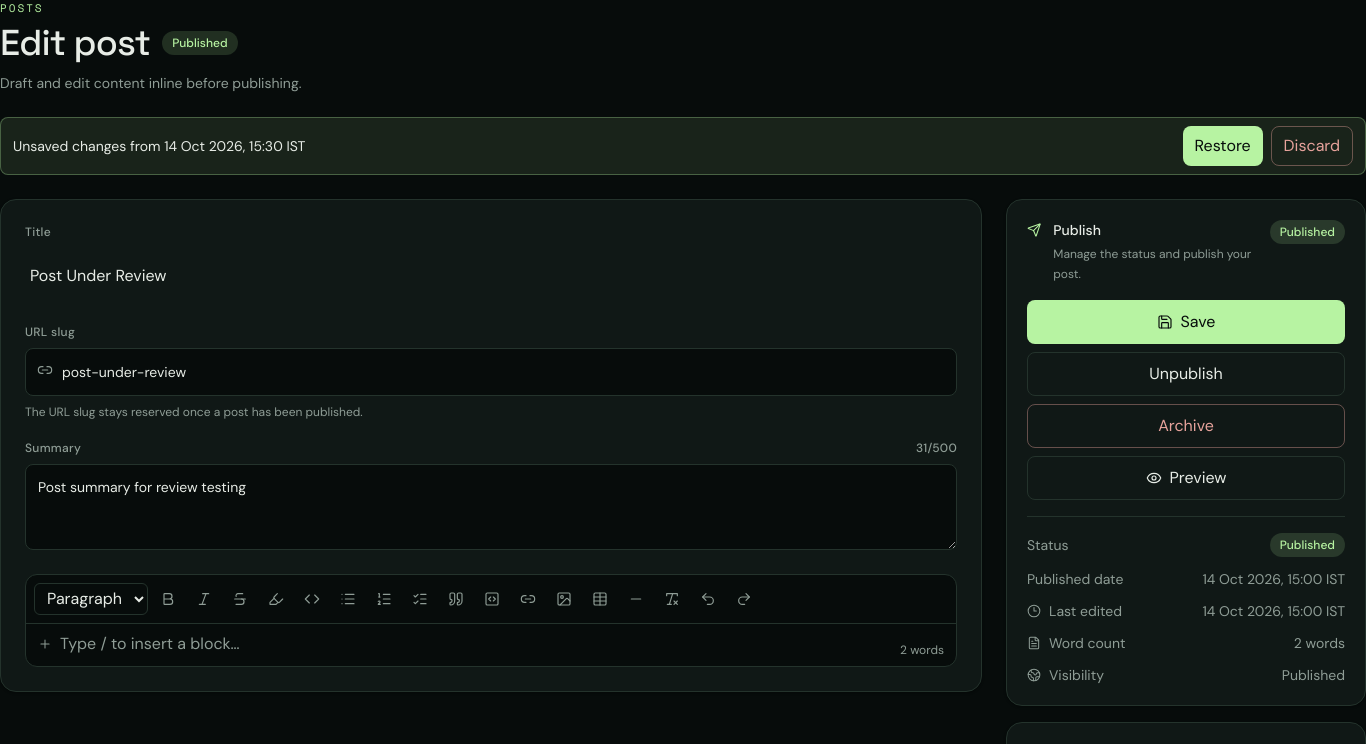
PostEditor component rendering with XSS payloads › sanitizes restored-from-local-storage HTML shown in preview through safeHtml
Click the button "Restore" at (1223, 146), box [1183, 126, 1263, 166]
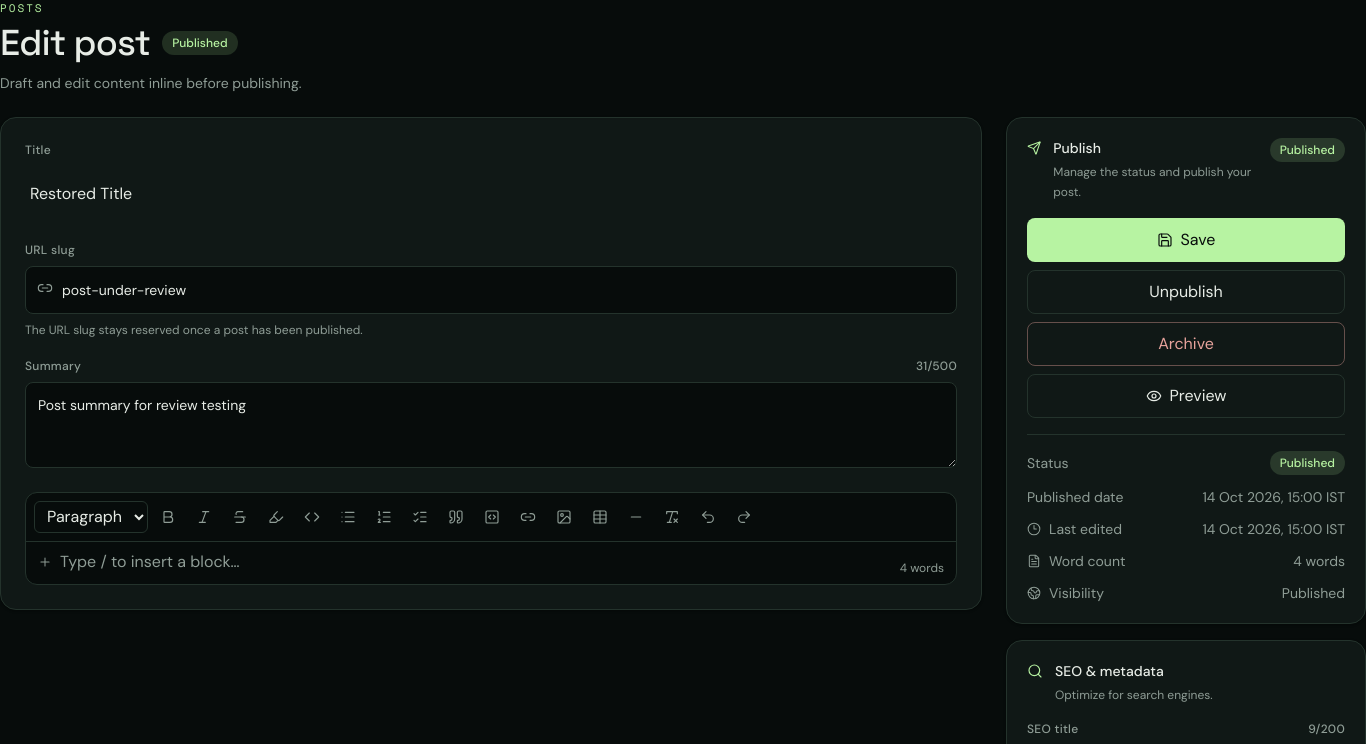
Click the button "Preview" at (1186, 396), box [1027, 374, 1345, 418]
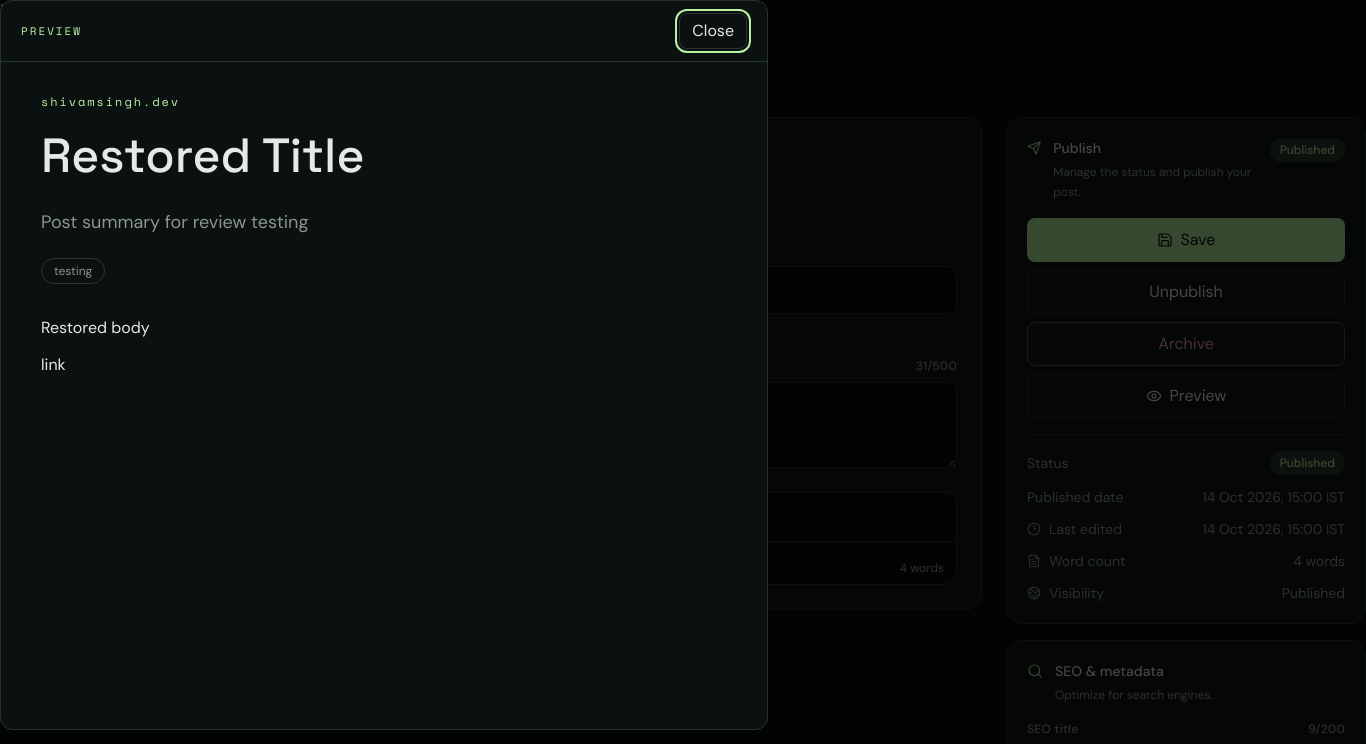
Result: the element with class "blog-preview-body" is shown at [41, 317, 150, 375]
Result: the element with class "blog-preview-body" shows "Restored body" at [41, 317, 150, 338]
